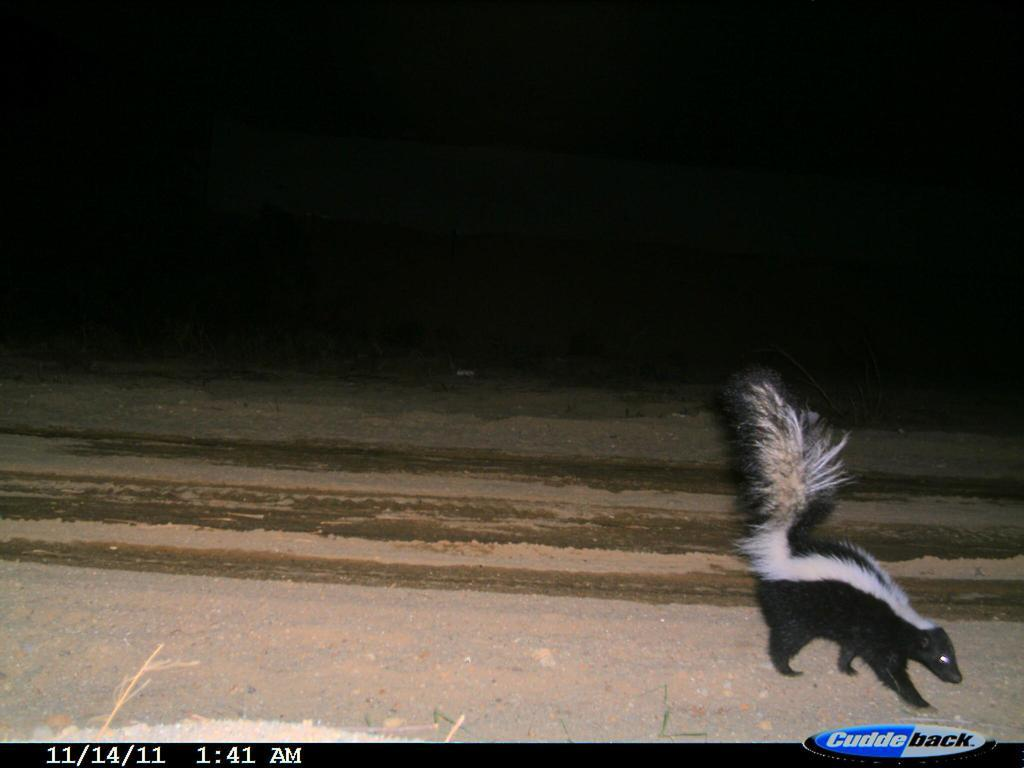skunk: (713, 354, 967, 721)
